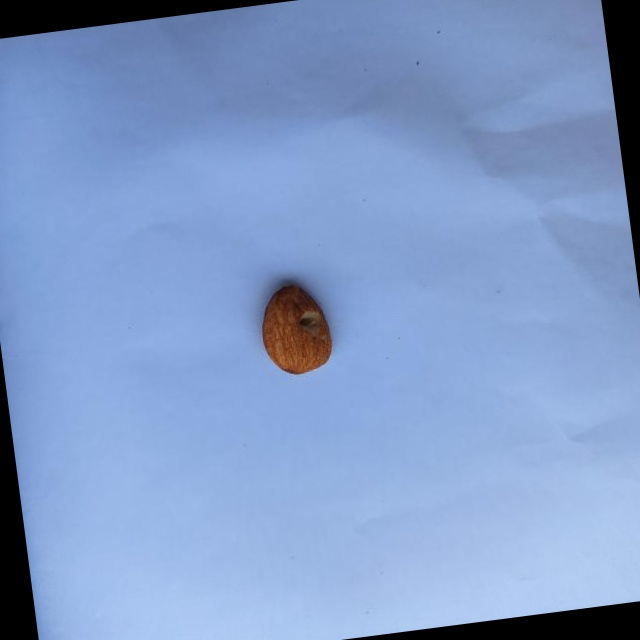grade3: (254, 275, 341, 383)
